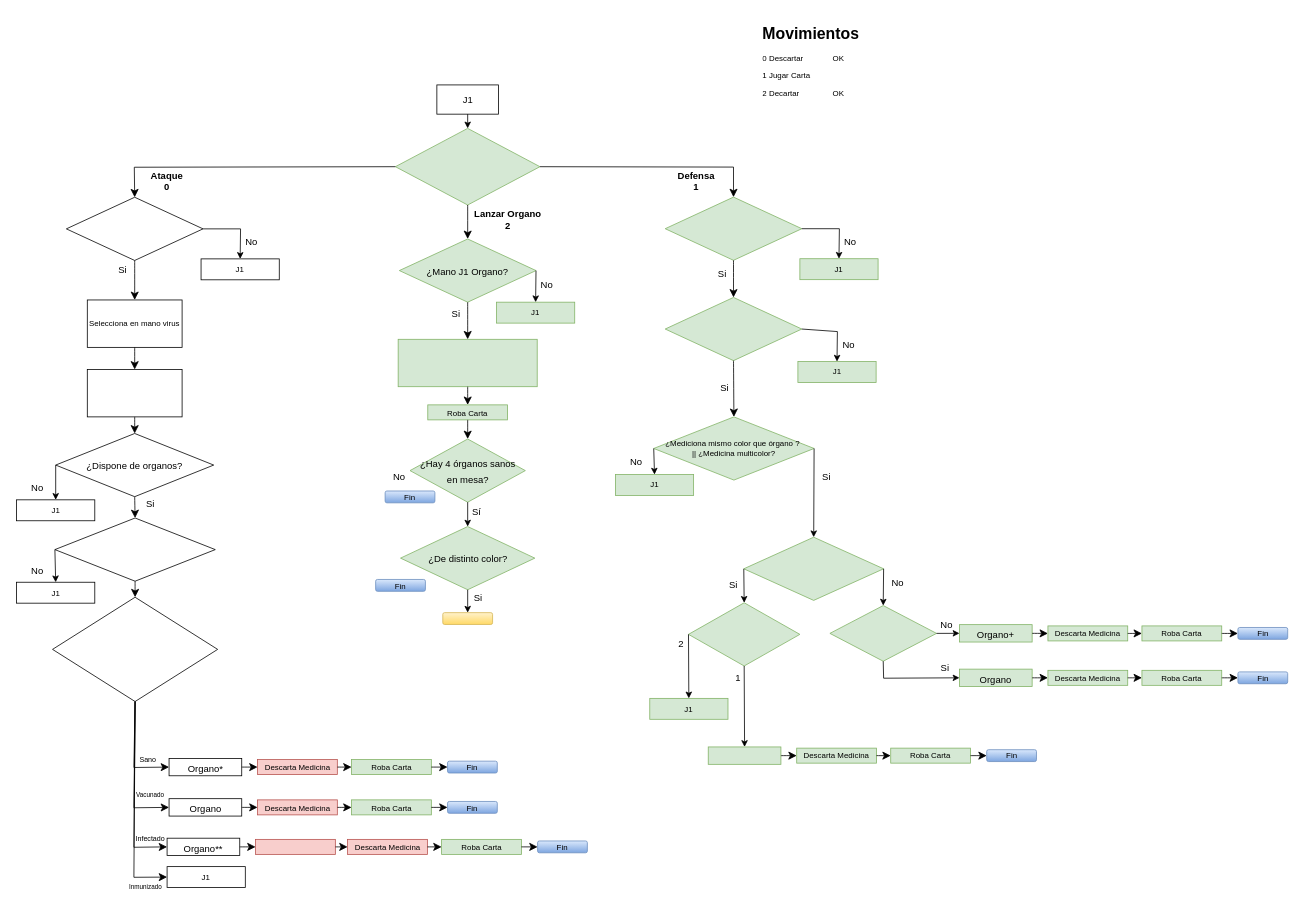
Some shapes in this 1301 by 909 pixel diagram are drawn without their labels. Here are the shapes that lost their labels. From the top down, the centre of each, then its label:
the point at 467,166: 0 Ataque 1 Defensa 2 Lanzar Organo
the point at 134,228: ¿Mano J1 Virus?
the point at 733,228: ¿Mano J1 Medicina?
the point at 733,329: ¿Mesa J1 Organo?
the point at 467,363: Selecciona organo a poner en mesa
the point at 134,393: Selecciona jugador a atacar y órgano
the point at 134,549: ¿Virus mismo color que órgano ? || ¿Virus multicolor?
the point at 813,568: ¿Organo +?
the point at 467,618: GANADOR
the point at 744,634: ¿Cuantos?
the point at 883,633: ¿Organo *?
the point at 135,649: ¿Organo sano? ¿Organo vacunado? ¿Organo inmunizado? ¿Organo infectado?
the point at 744,755: Organo++
the point at 295,846: Descarta Organo
